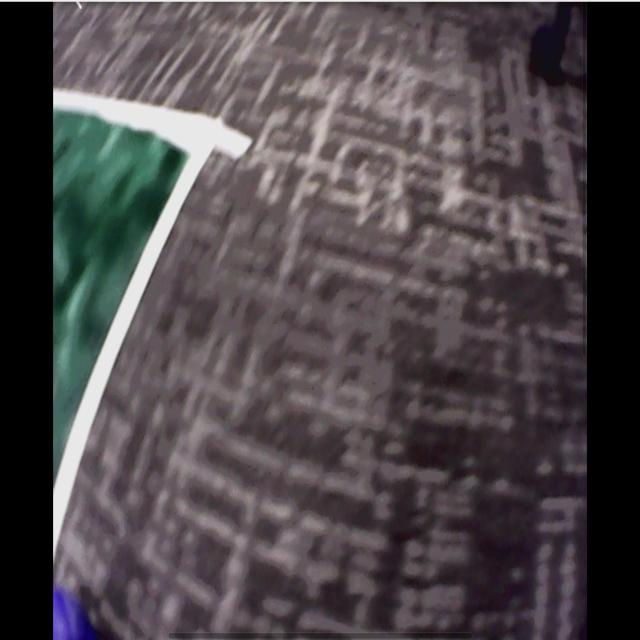ball: (54, 584, 91, 640)
